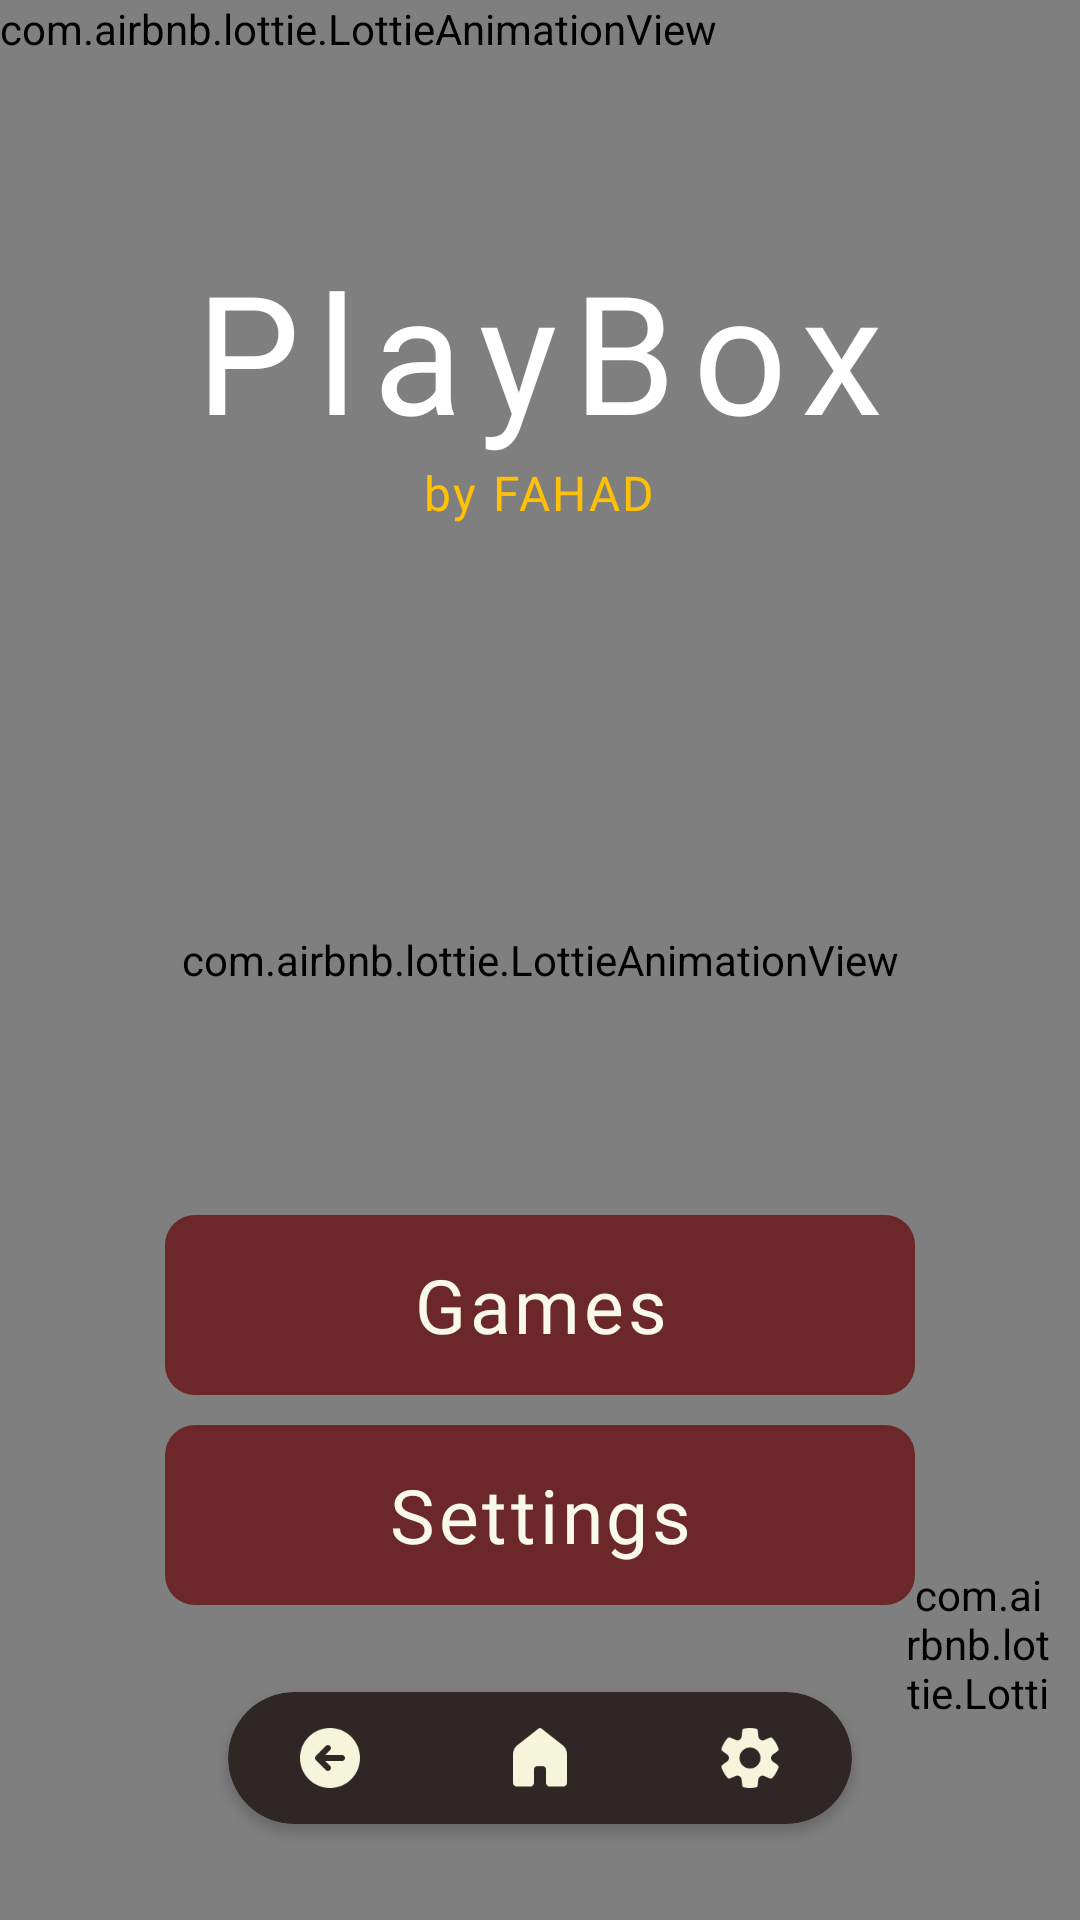

Icon click points for this 1080px x 1920px phone screenshot, format (x,y):
back: (330,1758)
home: (540,1757)
